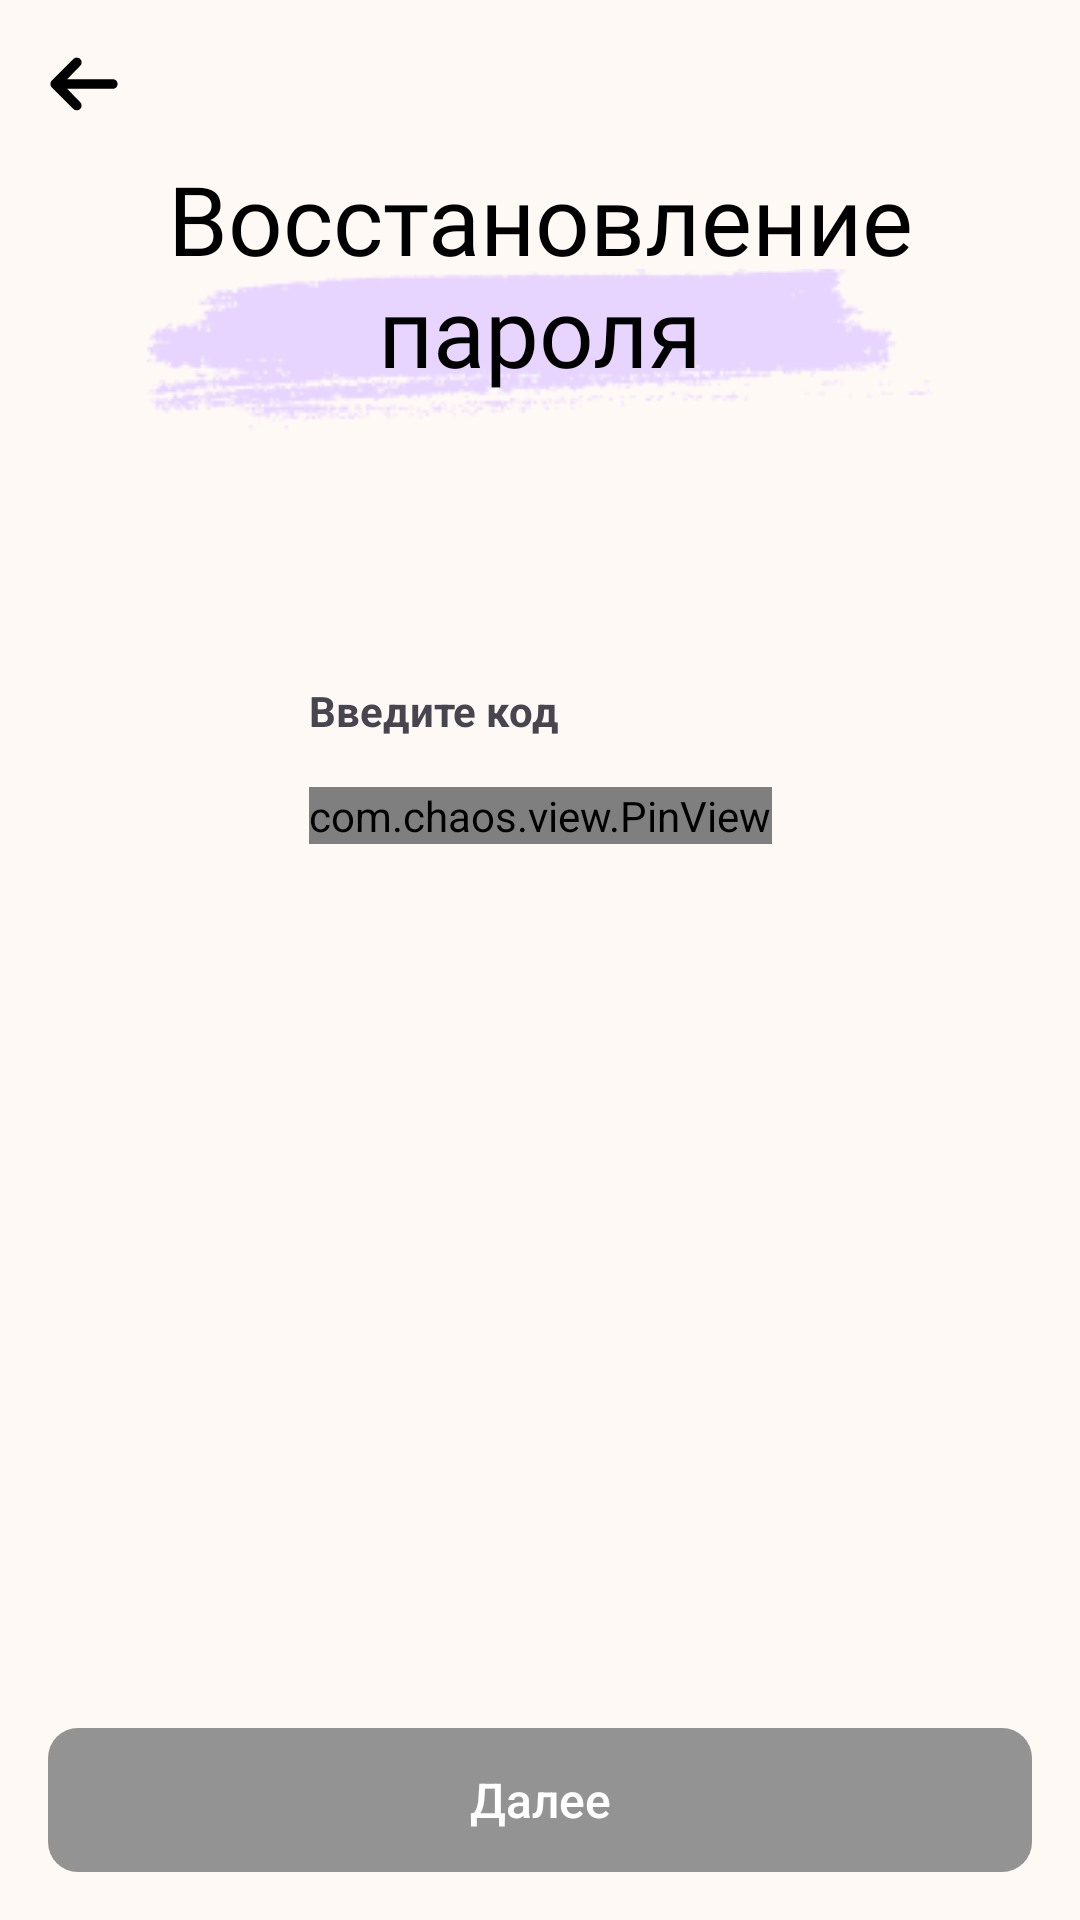

Icon bounding boxes for this 1080 x 1920 phone screenshot, format BBox(x1, y1, x2, y2):
maki arrow: BBox(50, 57, 118, 111)
